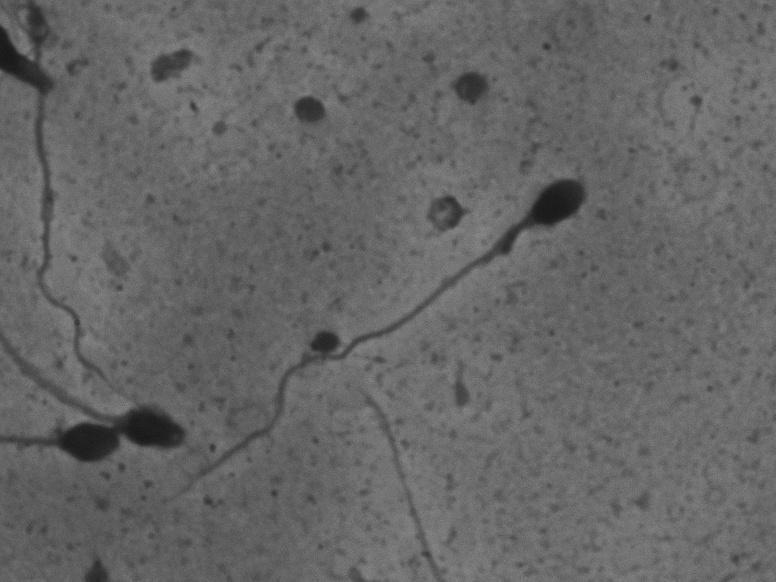Normal: (146, 164, 597, 512)
